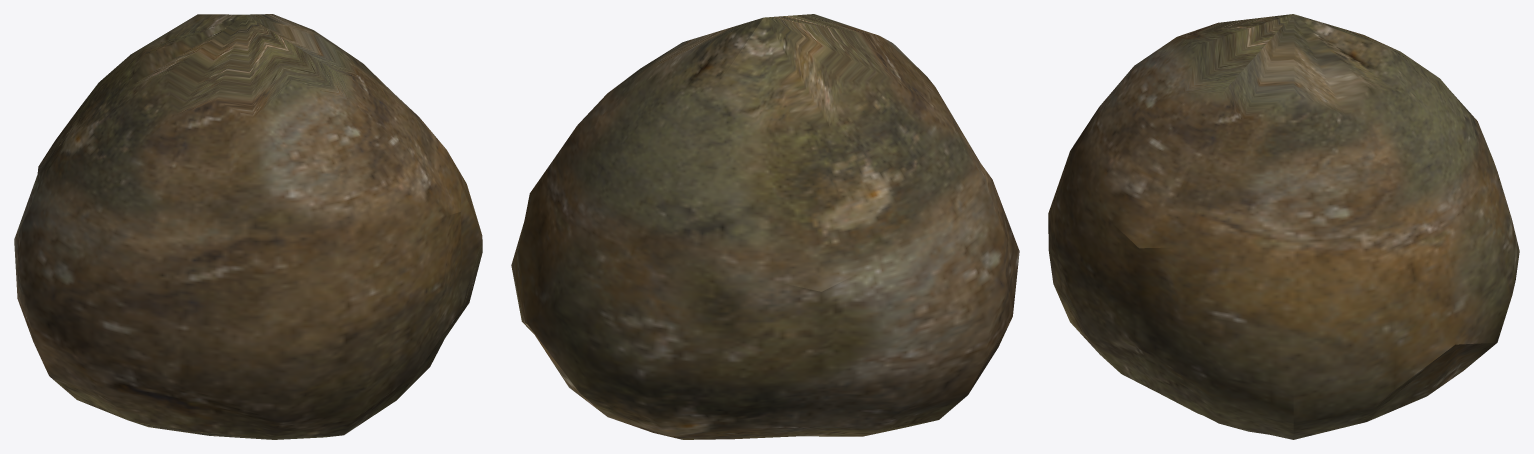
Rendered from rock.fbx.
3 views of the same model, side by side, from view 1: azimuth 30°, elevation 25°; view 2: azimuth 150°, elevation 25°; view 3: azimuth 270°, elevation 25° (orthographic). The views are drawn at different scales.
Visible parts, largest first — view 1: rock.004; view 2: rock.004; view 3: rock.004.
Boxes of the visible parts, x1,y1,x2,y2 form: rock.004: (14, 14, 482, 439); rock.004: (511, 14, 1019, 439); rock.004: (1048, 14, 1519, 439).
Size of the model in its own units: 90.67 by 76.8 by 87.07.
